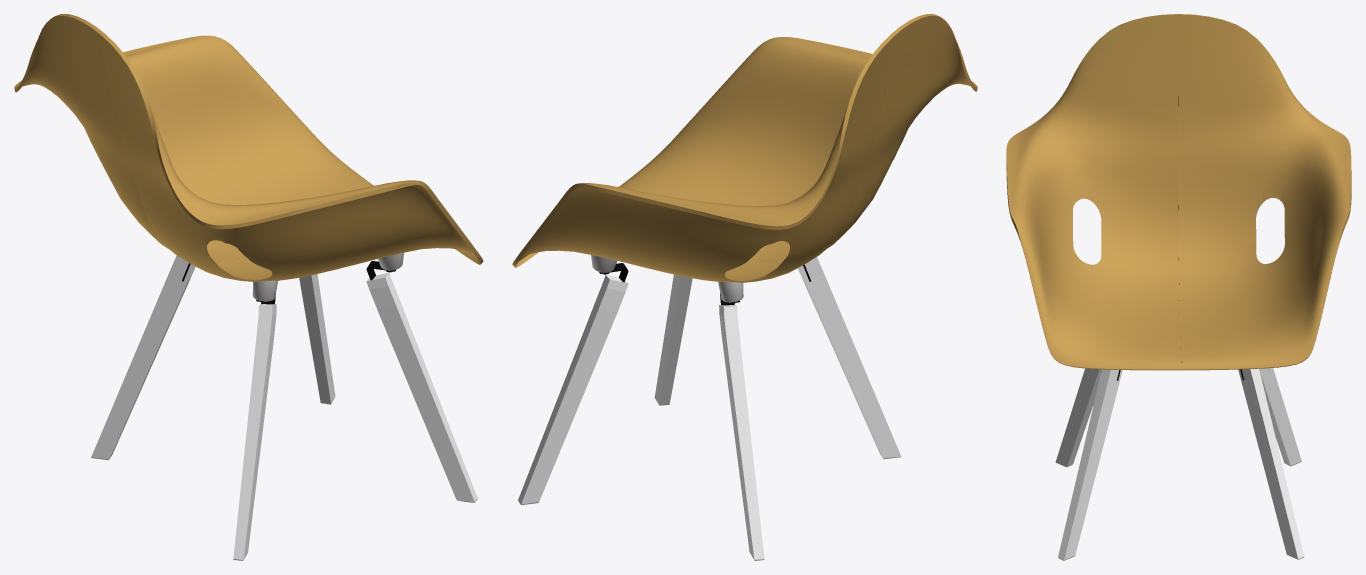
File: chair.glb
3 renders of one model, left to right at view 1: azimuth 30°, elevation 25°; view 2: azimuth 150°, elevation 25°; view 3: azimuth 270°, elevation 25°, orthographic. The views are drawn at different scales.
Visible parts, largest first — view 1: Group_001, Group_003, Group_012, Group_008, Group_013; view 2: Group_001, Group_013, Group_008, Group_012, Group_003; view 3: Group_001, Group_013, Group_003, Group_008, Group_012.
Part boxes in pixels (<box>): Group_001: <box>14,14,483,281</box>; Group_003: <box>366,273,477,502</box>; Group_012: <box>91,255,195,460</box>; Group_008: <box>233,304,276,560</box>; Group_013: <box>299,274,335,404</box>; Group_001: <box>512,14,977,282</box>; Group_013: <box>518,275,628,505</box>; Group_008: <box>797,257,901,459</box>; Group_012: <box>719,305,764,560</box>; Group_003: <box>654,274,692,405</box>; Group_001: <box>1006,14,1351,370</box>; Group_013: <box>1238,368,1304,559</box>; Group_003: <box>1058,369,1122,560</box>; Group_008: <box>1055,368,1101,467</box>; Group_012: <box>1259,368,1301,466</box>.
Size of the model in its own units: 565 by 832 by 623.
